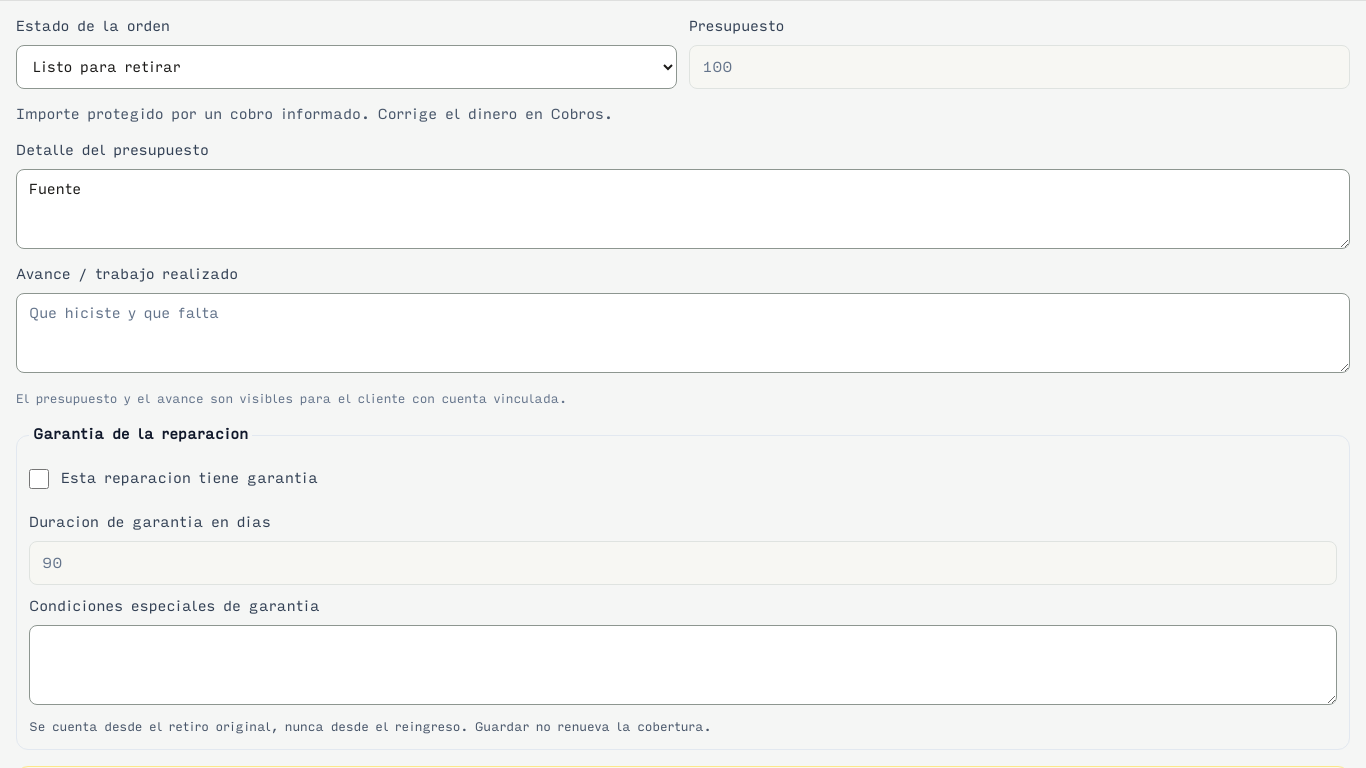
Scenario: editor unico de reparaciones › no pierde un cambio de garantia al elegir retiro
The image size is (1366, 768).
Click the checkbox labelled "Esta reparacion tiene garantia" at (39, 479), box [29,469,49,489]
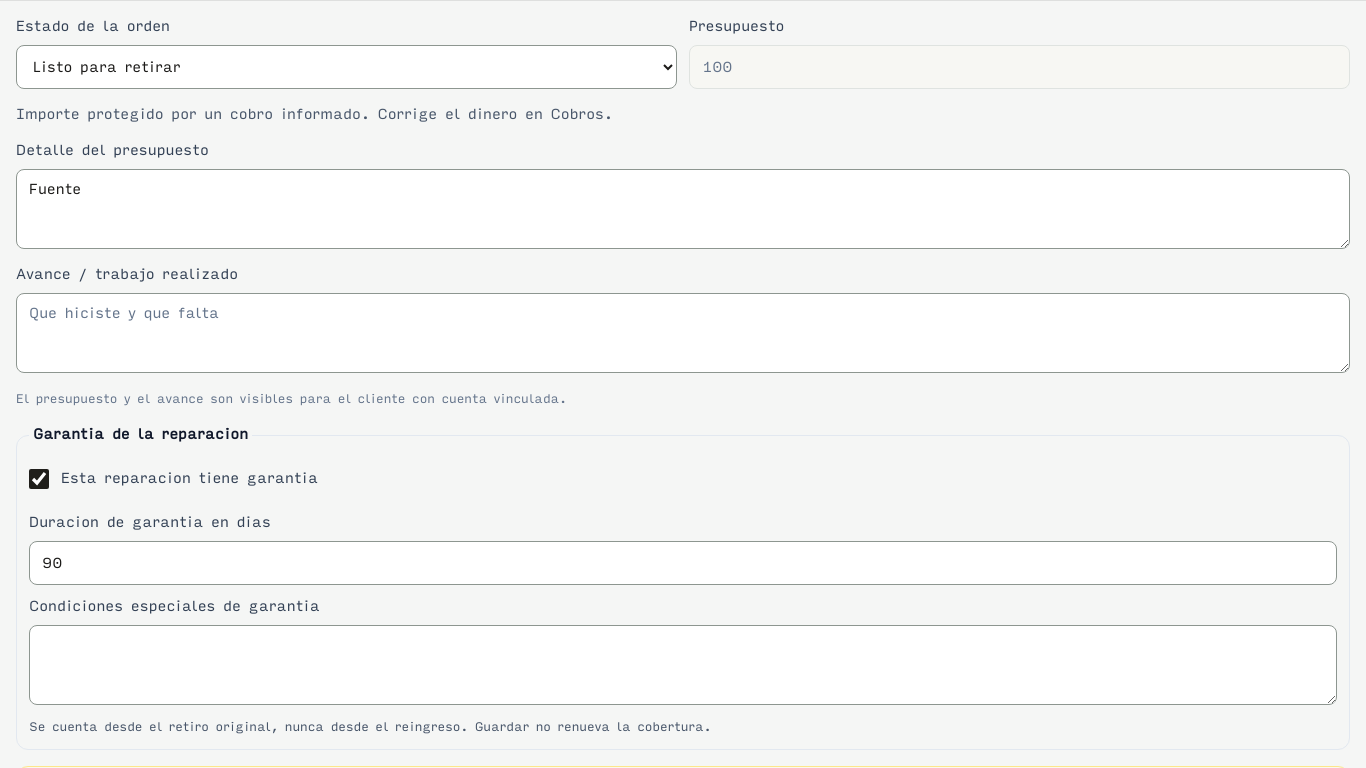
Select "Retirado por cliente" in the dropdown labelled "Estado de la orden" at (346, 67), box [16,45,677,89]
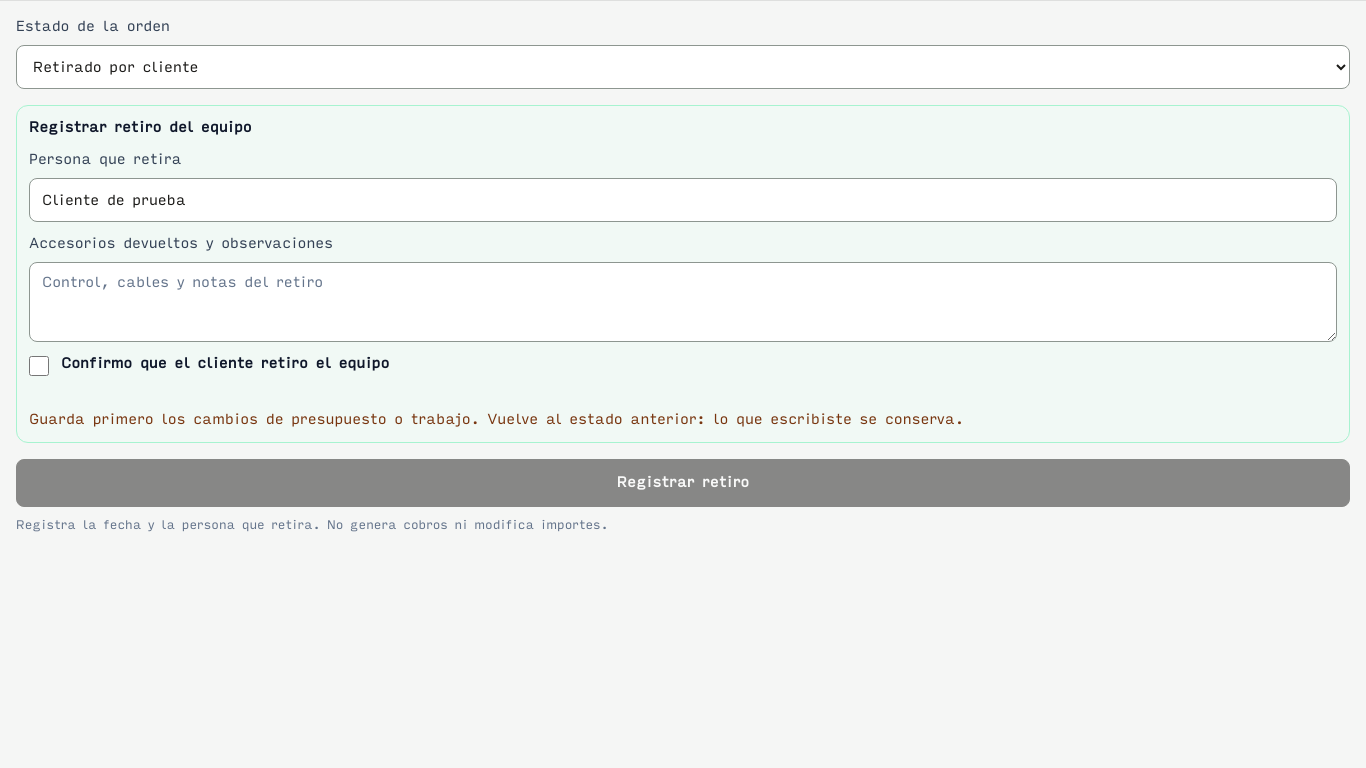
Expected: the button "Registrar retiro" is disabled, [16,459,1350,507]
